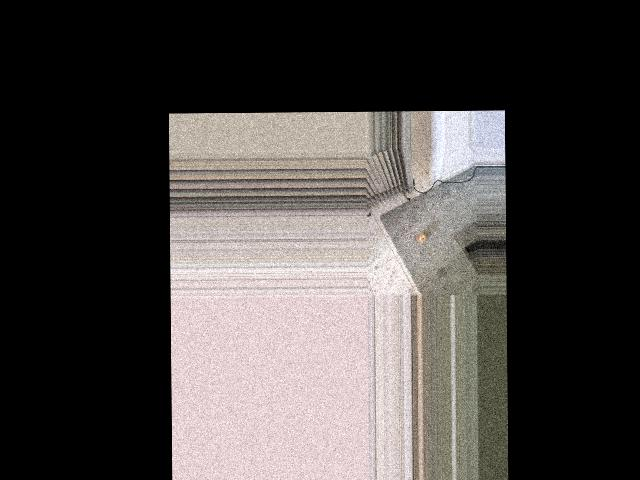onion: (417, 232, 426, 243)
